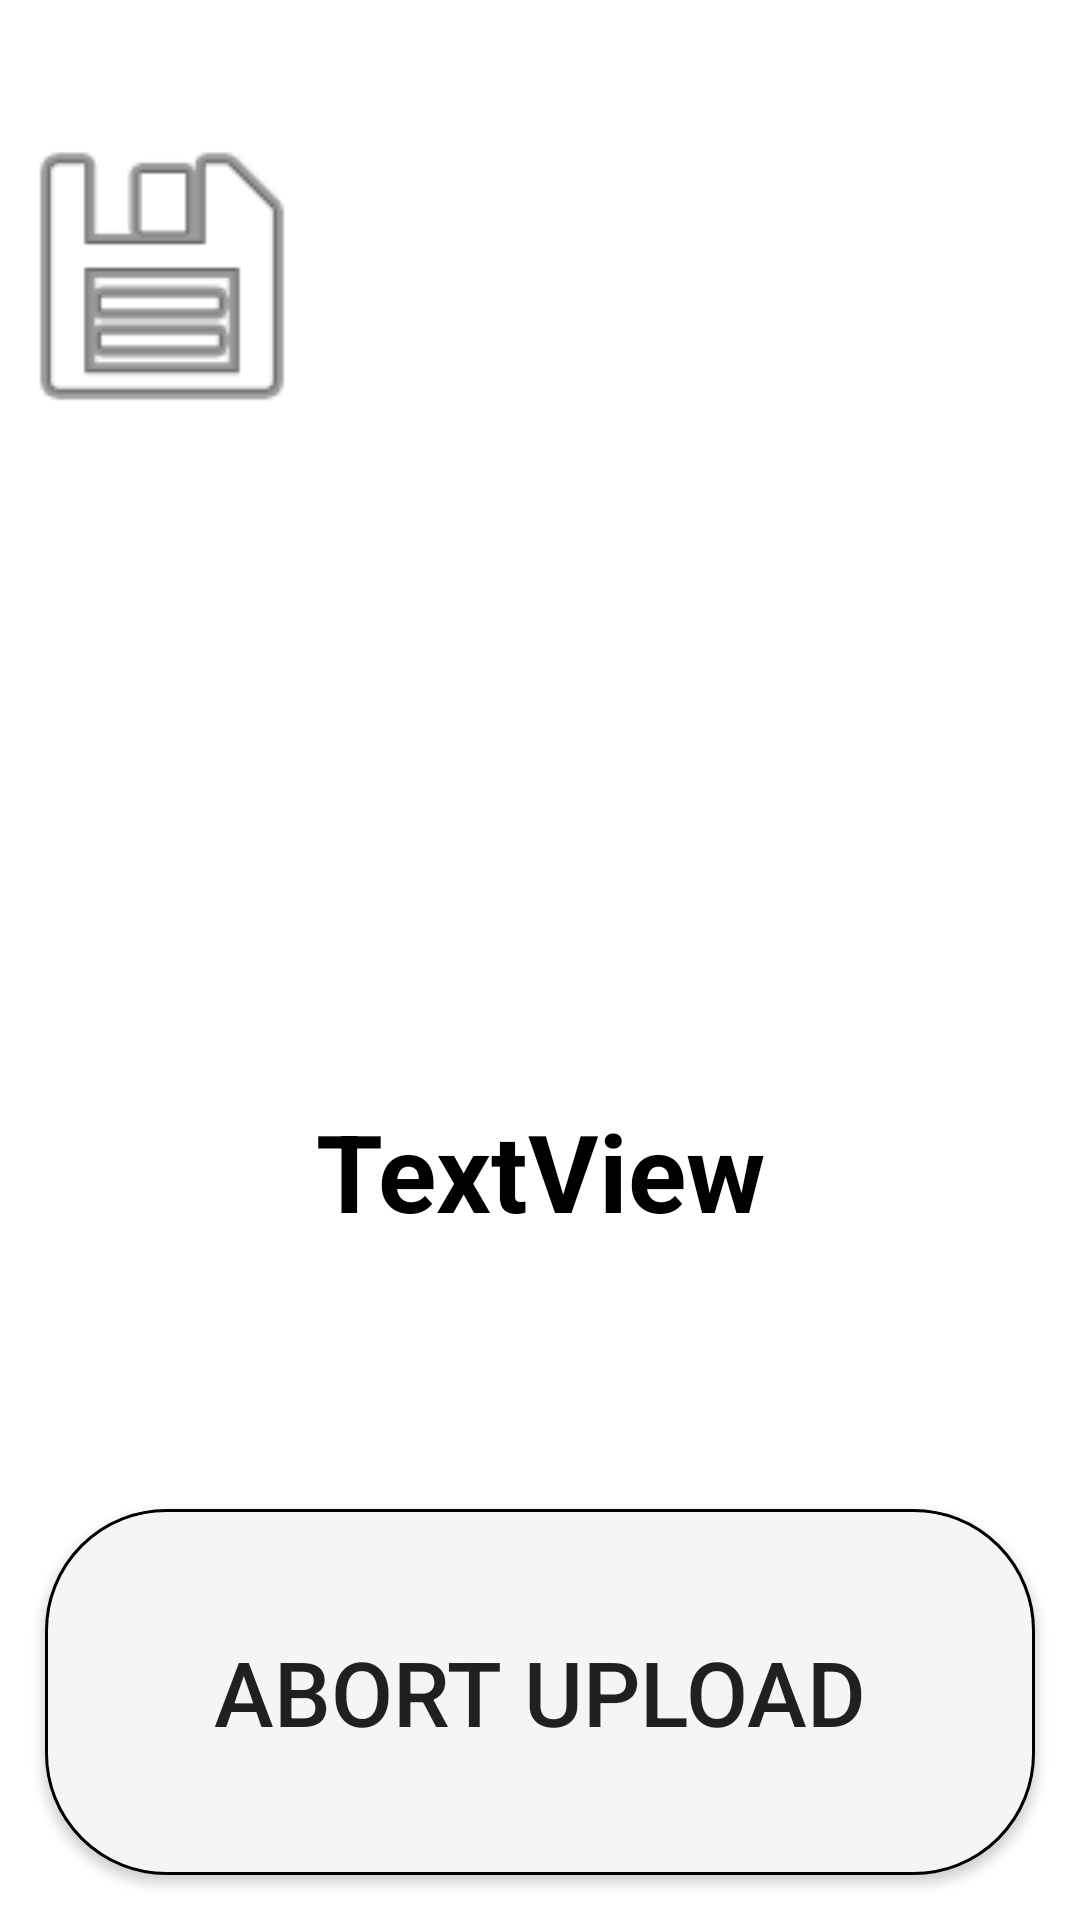

Screen size 1080*1920. Icon name, then its box in pixels as (x1, y1, x2, y2):
save: (40, 152, 284, 400)
